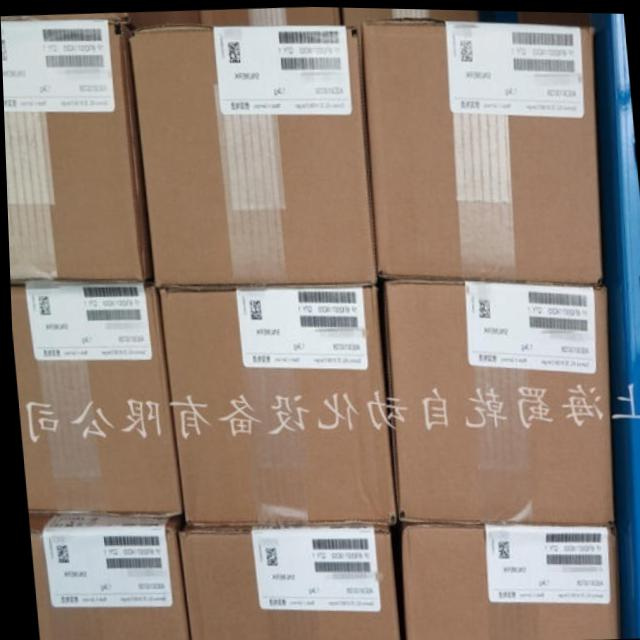box: (131, 22, 377, 288), (362, 19, 604, 283), (153, 283, 394, 527), (379, 278, 614, 522), (8, 283, 180, 517), (1, 18, 150, 284), (174, 522, 400, 640), (394, 522, 618, 640), (26, 516, 186, 640), (342, 6, 481, 36), (198, 5, 342, 24), (0, 13, 132, 25), (132, 9, 200, 27), (510, 9, 590, 23)
